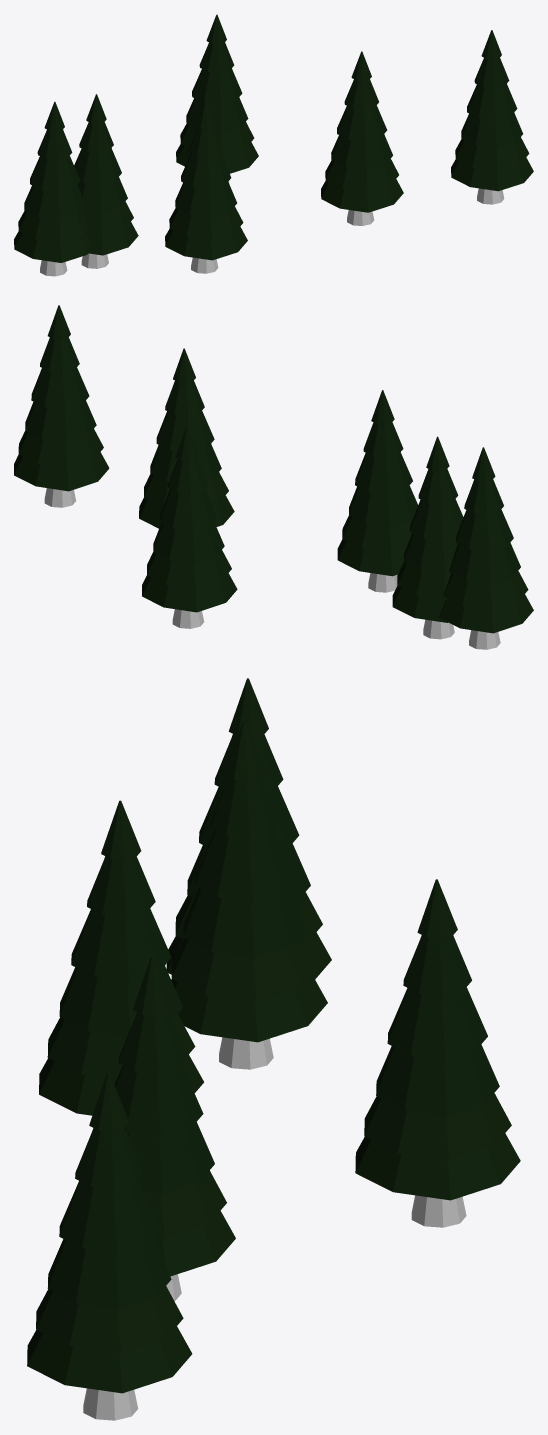
File: tree.obj
3 views of the same model, one above another, from view 1: azimuth 30°, elevation 25°; view 2: azimuth 150°, elevation 25°; view 3: azimuth 270°, elevation 25° (orthographic). The views are drawn at different scales.
Parts seen in each view (by area): view 1: Cylinder.001, Cylinder.002, Cylinder.003, Cylinder, Cylinder.005, Cylinder.004; view 2: Cylinder.003, Cylinder.004, Cylinder, Cylinder.001, Cylinder.005, Cylinder.002; view 3: Cylinder.004, Cylinder.003, Cylinder.005, Cylinder.001, Cylinder.002, Cylinder.
Part boxes in pixels (x1,y1,x2,y2): Cylinder.001: (165, 99, 247, 273); Cylinder.002: (321, 51, 403, 225); Cylinder.003: (451, 30, 533, 204); Cylinder: (14, 101, 90, 276); Cylinder.005: (74, 94, 138, 268); Cylinder.004: (176, 14, 258, 183); Cylinder.003: (14, 305, 109, 507); Cylinder.004: (142, 426, 237, 628); Cylinder: (438, 447, 533, 649); Cylinder.001: (337, 390, 418, 592); Cylinder.005: (392, 436, 463, 639); Cylinder.002: (139, 348, 234, 528); Cylinder.004: (355, 879, 520, 1227); Cylinder.003: (27, 1072, 192, 1420); Cylinder.005: (171, 721, 327, 1069); Cylinder.001: (39, 800, 203, 1115); Cylinder.002: (114, 956, 235, 1301); Cylinder: (166, 678, 331, 979).
Size of the model in its own units: 15.08 by 5.26 by 6.79.
